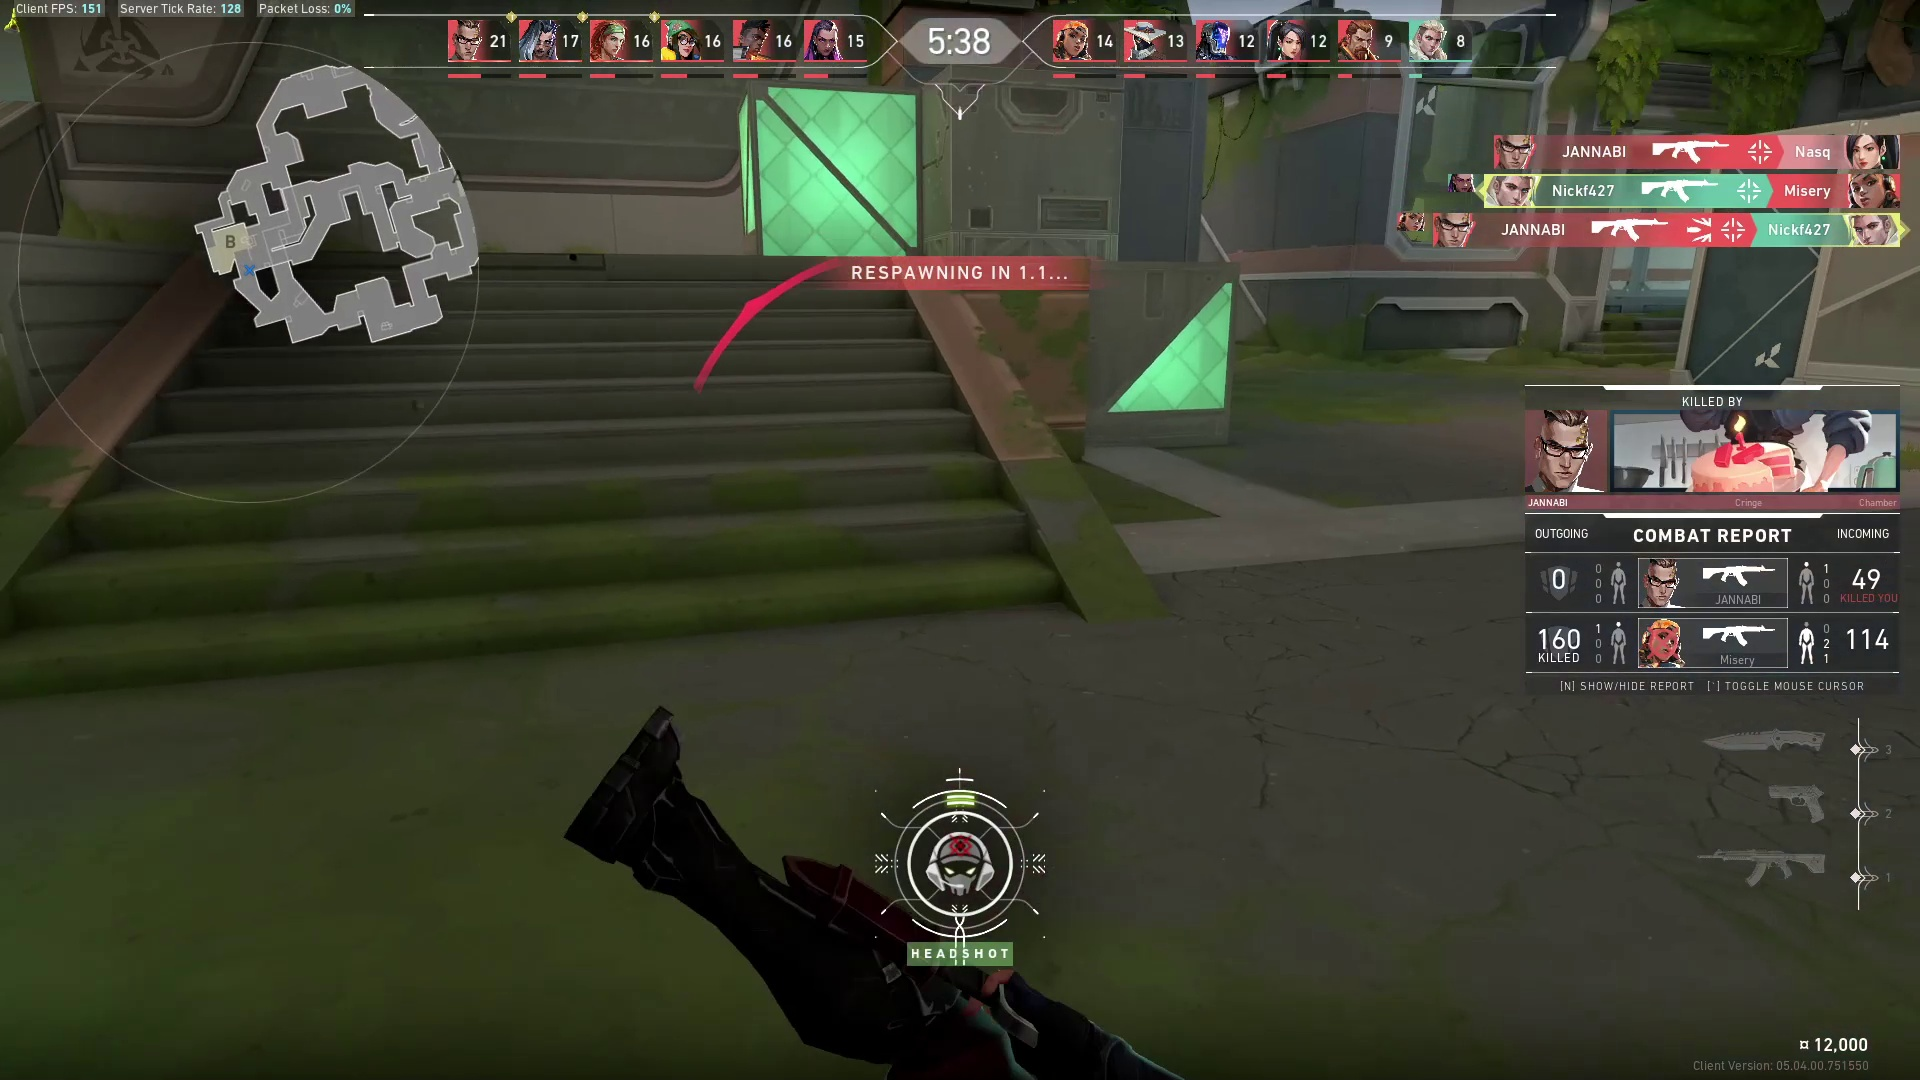enemy_gen: (1, 3, 18, 40)
